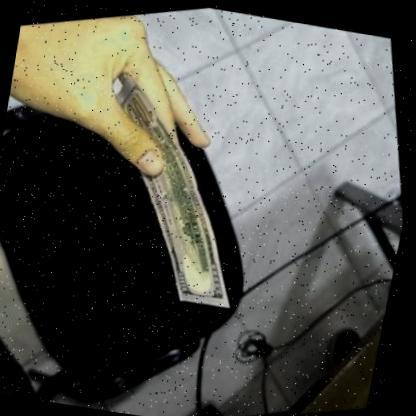dollar_back: (80, 63, 274, 330)
